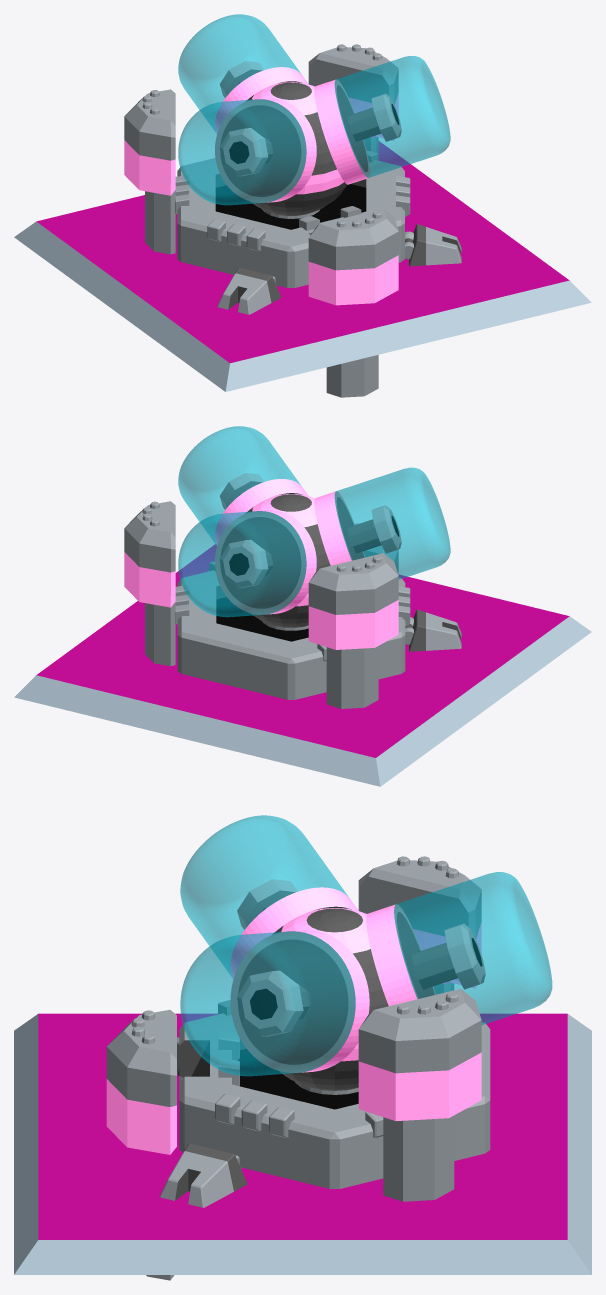
Rendered from 79_Haarvester_ALPHA6.fbx.
The picture shows the model from 3 angles, top to bottom: view 1: azimuth 30°, elevation 25°; view 2: azimuth 150°, elevation 25°; view 3: azimuth 270°, elevation 25°; orthographic projection. The views are drawn at different scales.
Parts seen in each view (by area): view 1: foundation_harvester6, pCylinder72 (×3), polySurface44, polySurface35, polySurface50, pump5 (×3), pSphere19, polySurface51, pPlane27, polySurface48, polySurface40; view 2: foundation_harvester6, pCylinder72 (×3), polySurface44, polySurface50, polySurface51, pump5 (×3), pSphere19, polySurface48, pPlane27; view 3: foundation_harvester6, pCylinder72 (×3), polySurface51, polySurface44, polySurface35, pump5 (×3), polySurface50, pSphere19, polySurface40, pPlane27, pCube113, pCube112 (+1 smaller).
Boxes of the visible parts, <box> form: foundation_harvester6: <box>14,141,591,391</box>; pCylinder72 (×3): <box>178,14,450,205</box>; polySurface44: <box>177,158,404,287</box>; polySurface35: <box>308,208,398,397</box>; polySurface50: <box>124,89,175,254</box>; pump5 (×3): <box>219,61,401,176</box>; pSphere19: <box>246,82,357,218</box>; polySurface51: <box>308,47,398,160</box>; pPlane27: <box>215,184,366,229</box>; polySurface48: <box>217,267,281,314</box>; polySurface40: <box>409,224,461,266</box>; foundation_harvester6: <box>14,544,591,786</box>; pCylinder72 (×3): <box>178,426,450,617</box>; polySurface44: <box>177,570,405,699</box>; polySurface50: <box>308,553,398,708</box>; polySurface51: <box>124,501,175,666</box>; pump5 (×3): <box>219,473,401,588</box>; pSphere19: <box>245,494,354,630</box>; polySurface48: <box>409,609,461,651</box>; pPlane27: <box>216,597,308,641</box>; foundation_harvester6: <box>14,1013,591,1274</box>; pCylinder72 (×3): <box>180,815,552,1076</box>; polySurface51: <box>358,989,481,1201</box>; polySurface44: <box>179,1013,490,1188</box>; polySurface35: <box>106,1009,176,1280</box>; pump5 (×3): <box>237,879,485,1036</box>; polySurface50: <box>358,860,481,994</box>; pSphere19: <box>272,908,425,1094</box>; polySurface40: <box>159,1143,247,1207</box>; pPlane27: <box>238,1049,358,1109</box>; pCube113: <box>241,1100,267,1131</box>; pCube112: <box>215,1093,240,1124</box>.
Bounding box in the file's own units: 2 × 1.47 × 2.
